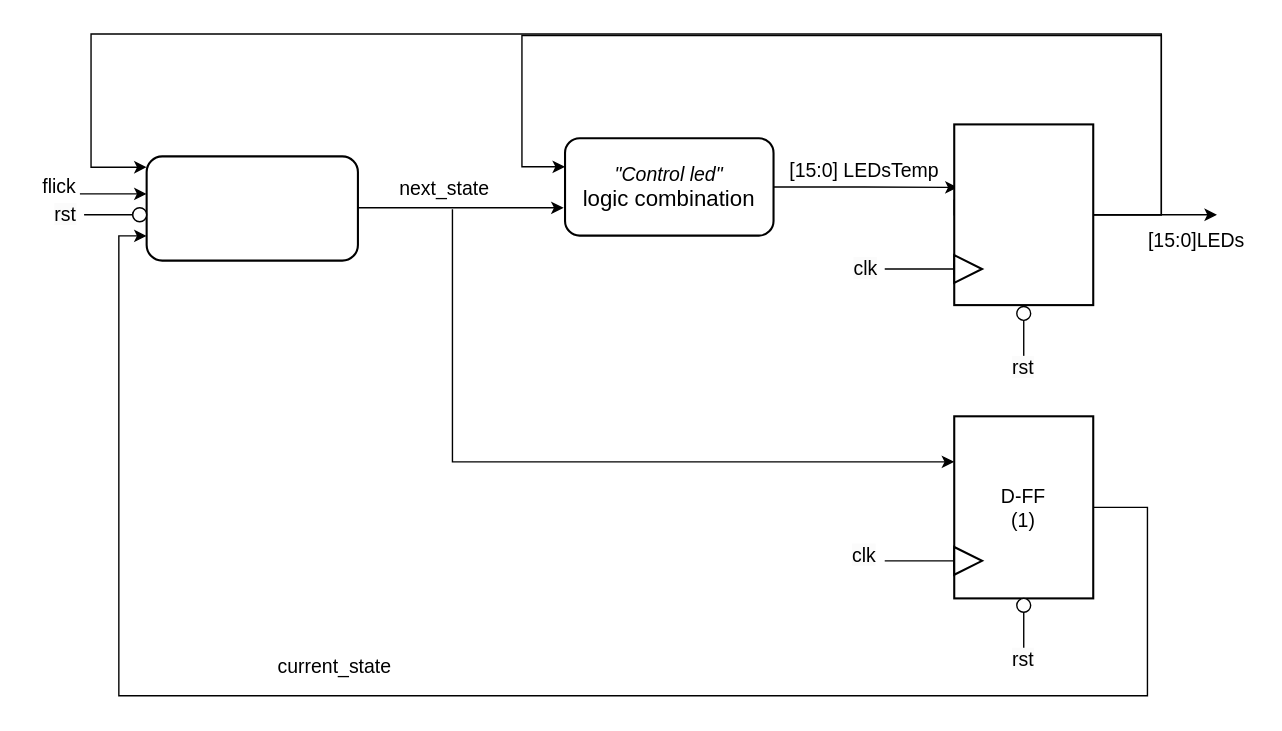
Some shapes in this 1282 by 731 pixel diagram are drawn without their labels. The box of each missing label's shape, as (x1, y1, x2, y2) in pixels:
" State generation " logic combination: (145, 155, 358, 261)
D-FF (2): (953, 123, 1094, 306)
